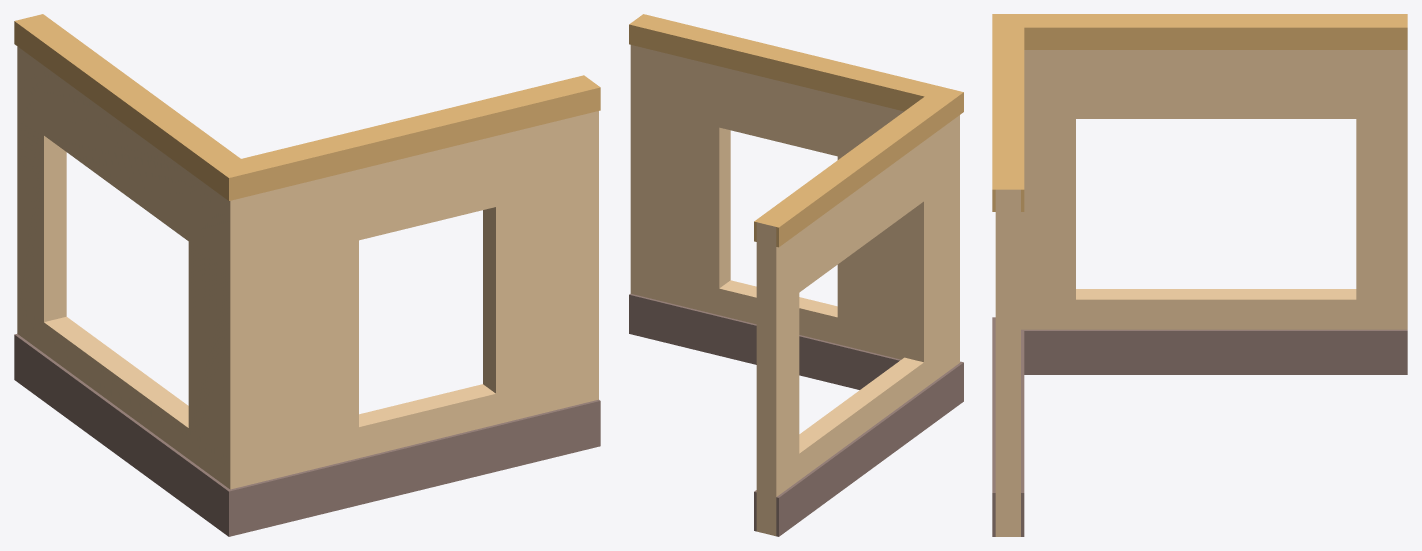
Rendered from Wall04-05.fbx.
The picture shows the model from 3 angles, left to right: view 1: azimuth 30°, elevation 25°; view 2: azimuth 150°, elevation 25°; view 3: azimuth 270°, elevation 25°; orthographic projection. The views are drawn at different scales.
Visible parts, largest first — view 1: Wall04-05; view 2: Wall04-05; view 3: Wall04-05.
Part boxes in pixels (x1,y1,x2,y2): Wall04-05: [14, 14, 600, 536]; Wall04-05: [629, 14, 963, 536]; Wall04-05: [992, 14, 1407, 536].
Bounding box in the file's own units: 3.25 × 3.25 × 3.
